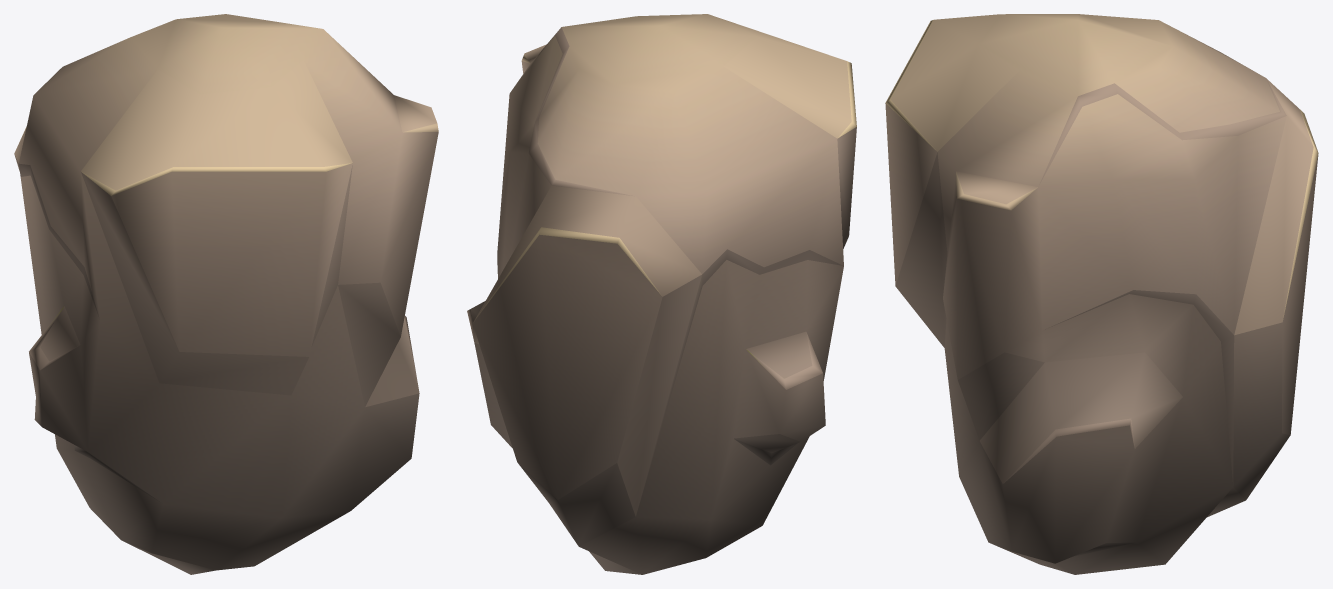
The model's file is rockMid_A.fbx.
3 views of the same model, side by side, from view 1: azimuth 30°, elevation 25°; view 2: azimuth 150°, elevation 25°; view 3: azimuth 270°, elevation 25° (orthographic). The views are drawn at different scales.
Visible parts, largest first — view 1: rockMid_A; view 2: rockMid_A; view 3: rockMid_A.
Part boxes in pixels (left/top/right/bottom): rockMid_A: left=14, top=14, right=438, bottom=574; rockMid_A: left=467, top=14, right=856, bottom=574; rockMid_A: left=885, top=14, right=1318, bottom=574.
Size of the model in its own units: 343 by 504 by 361.
